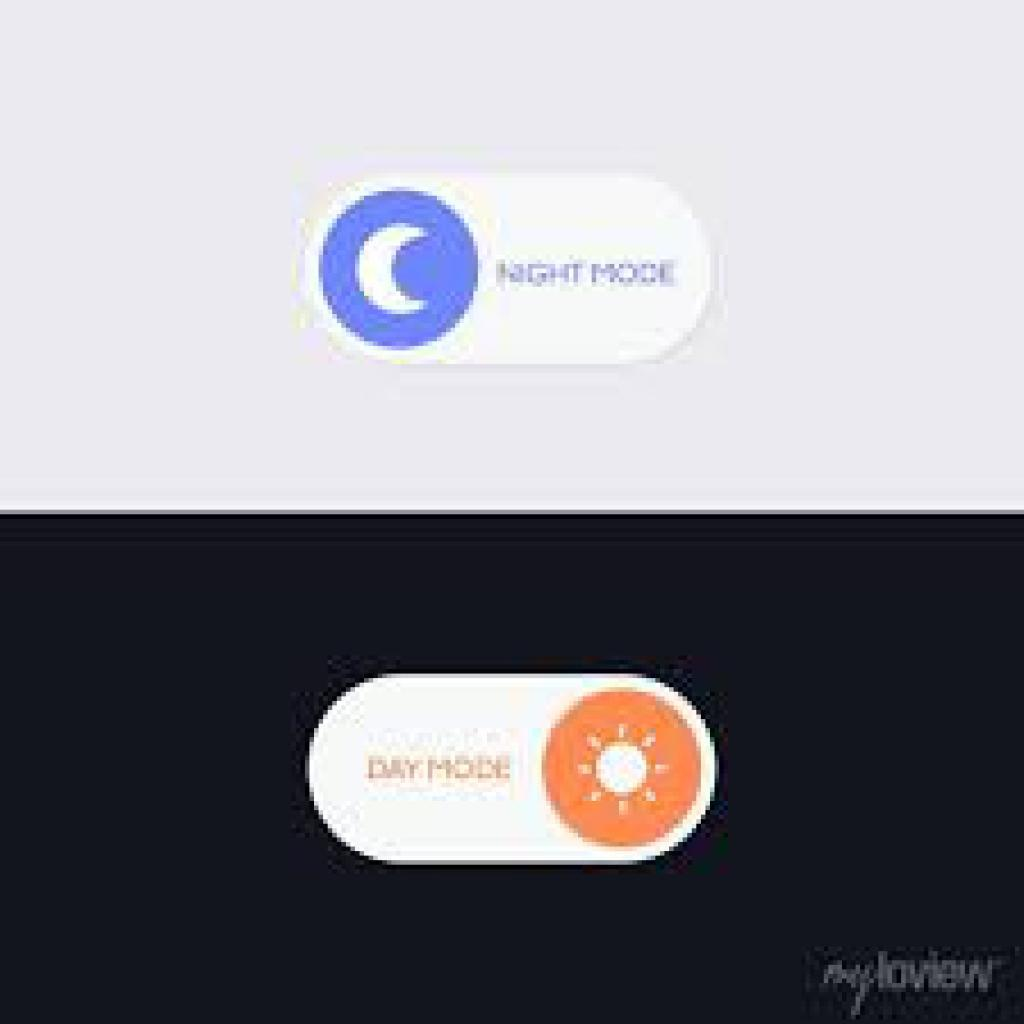switch: (285, 165, 730, 386), (301, 665, 732, 874)
